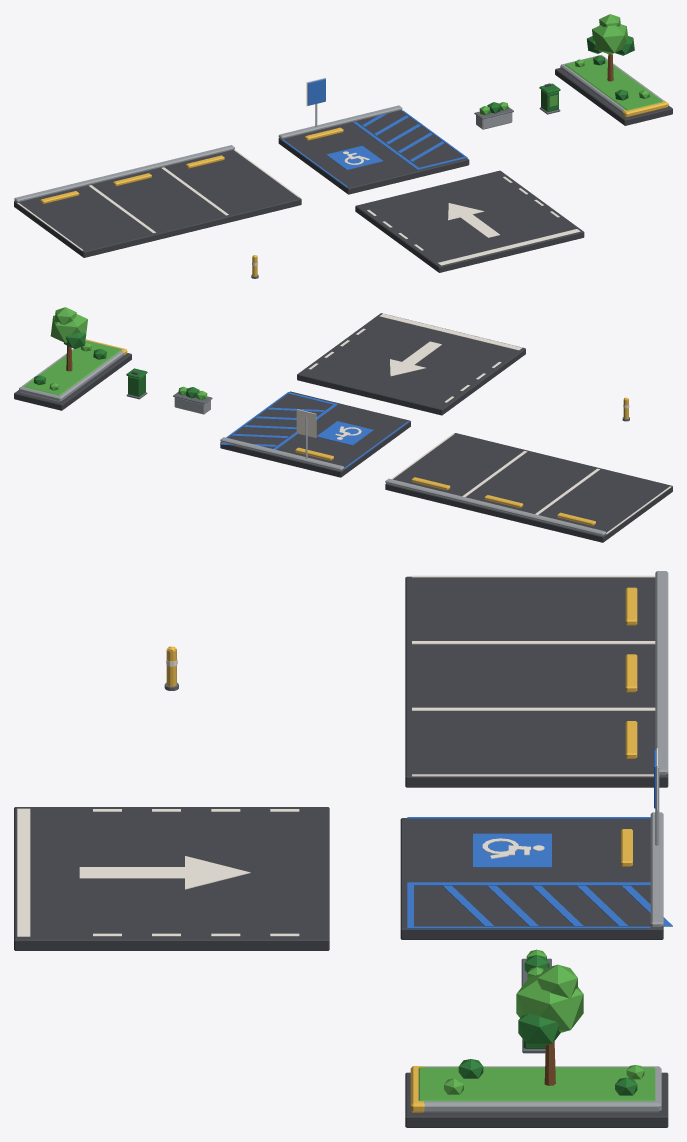
Rendered from parking-lot-kit.glb.
3 views of the same model, one above another, from view 1: azimuth 30°, elevation 25°; view 2: azimuth 150°, elevation 25°; view 3: azimuth 270°, elevation 25° (orthographic). The views are drawn at different scales.
Parts seen in each view (by area): view 1: Parking_Section_3, Parking_Entrance_Arrow, Parking_Accessible, Parking_Island_End, Planter_Box; view 2: Parking_Section_3, Parking_Entrance_Arrow, Parking_Accessible, Parking_Island_End, Planter_Box, Trash_Bin; view 3: Parking_Section_3, Parking_Entrance_Arrow, Parking_Accessible, Parking_Island_End.
Boxes of the visible parts, bbox=[...] form: Parking_Section_3: bbox=[14, 145, 301, 257]; Parking_Entrance_Arrow: bbox=[355, 170, 584, 272]; Parking_Accessible: bbox=[278, 77, 469, 194]; Parking_Island_End: bbox=[555, 14, 672, 125]; Planter_Box: bbox=[474, 102, 513, 129]; Parking_Section_3: bbox=[385, 433, 672, 542]; Parking_Entrance_Arrow: bbox=[297, 313, 525, 415]; Parking_Accessible: bbox=[220, 391, 410, 477]; Parking_Island_End: bbox=[14, 307, 131, 410]; Planter_Box: bbox=[173, 386, 212, 414]; Trash_Bin: bbox=[126, 374, 147, 399]; Parking_Section_3: bbox=[405, 571, 668, 787]; Parking_Entrance_Arrow: bbox=[14, 807, 329, 950]; Parking_Accessible: bbox=[400, 748, 672, 939]; Parking_Island_End: bbox=[405, 964, 668, 1127].
Size of the model in its own units: 97.2 by 12.02 by 50.1.
